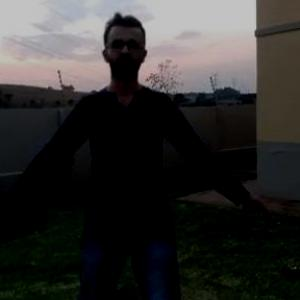land: (1, 16, 264, 294)
